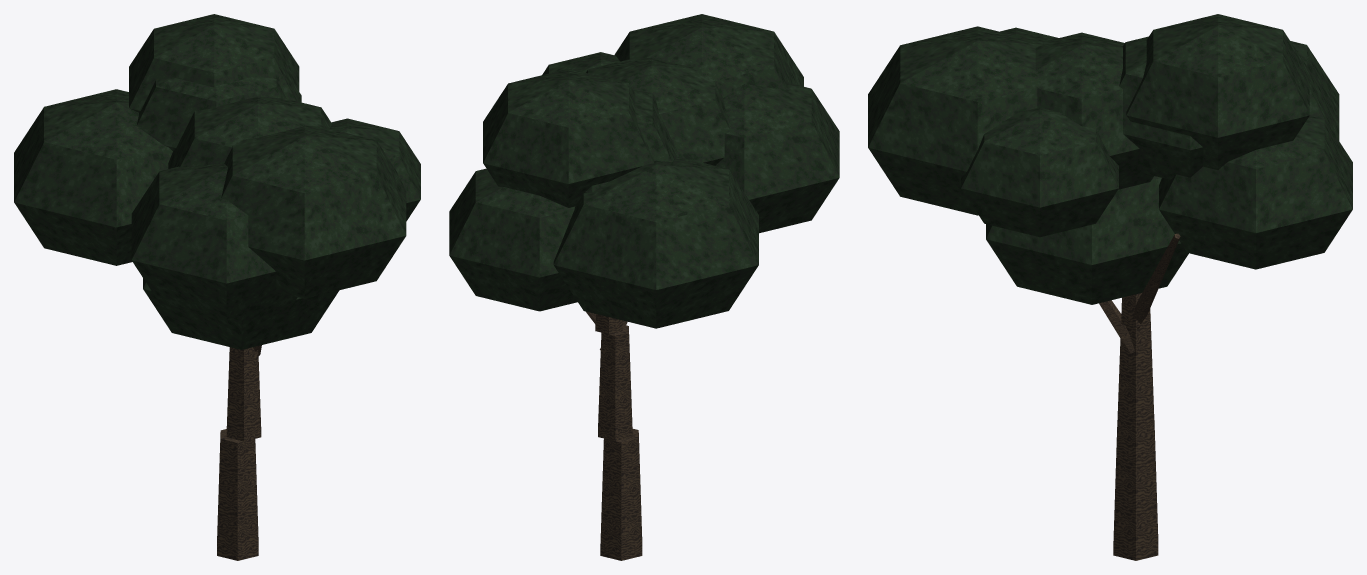
The model's file is tree.glb.
3 renders of one model, left to right at view 1: azimuth 30°, elevation 25°; view 2: azimuth 150°, elevation 25°; view 3: azimuth 270°, elevation 25°, orthographic. The views are drawn at different scales.
Parts seen in each view (by area): view 1: tree; view 2: tree; view 3: tree.
Boxes of the visible parts, left/top/right/bottom form: tree: left=14, top=14, right=420, bottom=560; tree: left=449, top=14, right=839, bottom=560; tree: left=868, top=14, right=1352, bottom=560.
Size of the model in its own units: 2.59 by 3.83 by 3.16.
Materials: 2 (2 with a texture image).
